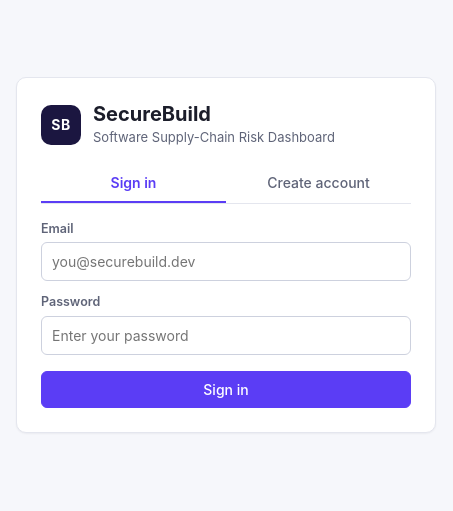
Test: LoginPage › switches to register tab and enforces 8-character password rule
The image size is (453, 511).
Click the tab "Create account" at (318,183), box [226,164,411,202]
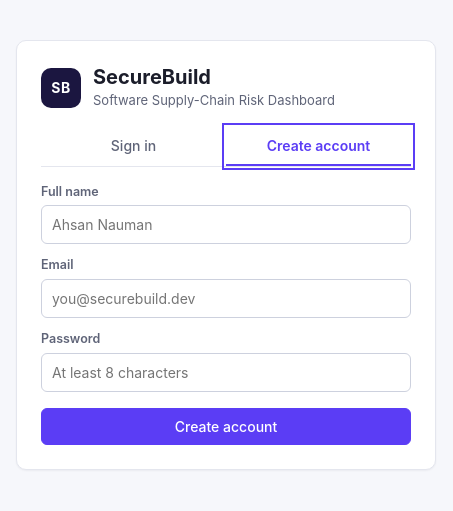
Type "Ahsan" into the field labelled "Full name" at (226,225), box [41,205,411,244]
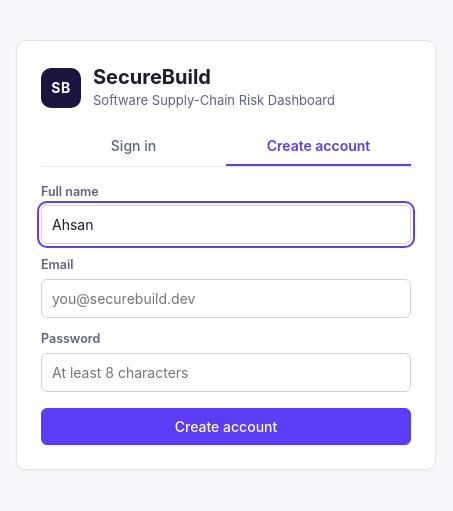
Type "ahsan@securebuild.dev" into the field labelled "Email" at (226,299), box [41,279,411,318]
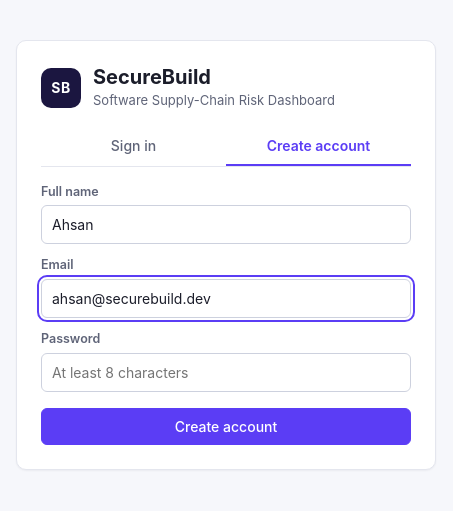
Type "short" into the password field labelled "Password" at (226,372), box [41,353,411,392]
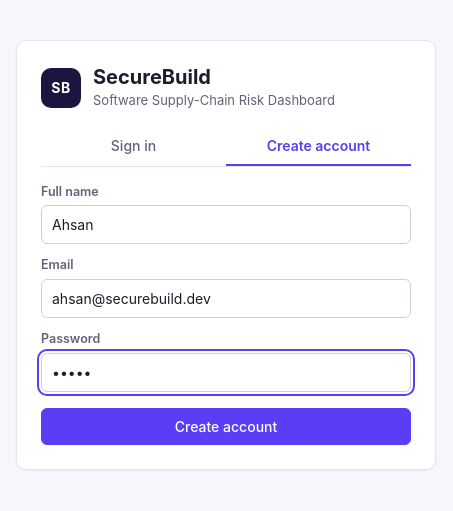
Click the button "Create account" at (226,426), box [41,408,411,445]
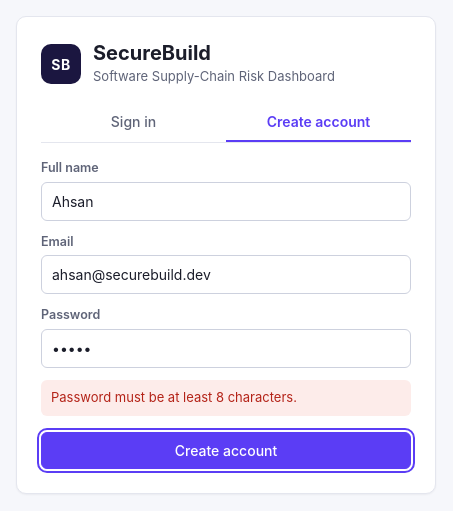
Result: the message reads "Password must be at least 8 characters." at [51,389,297,405]
